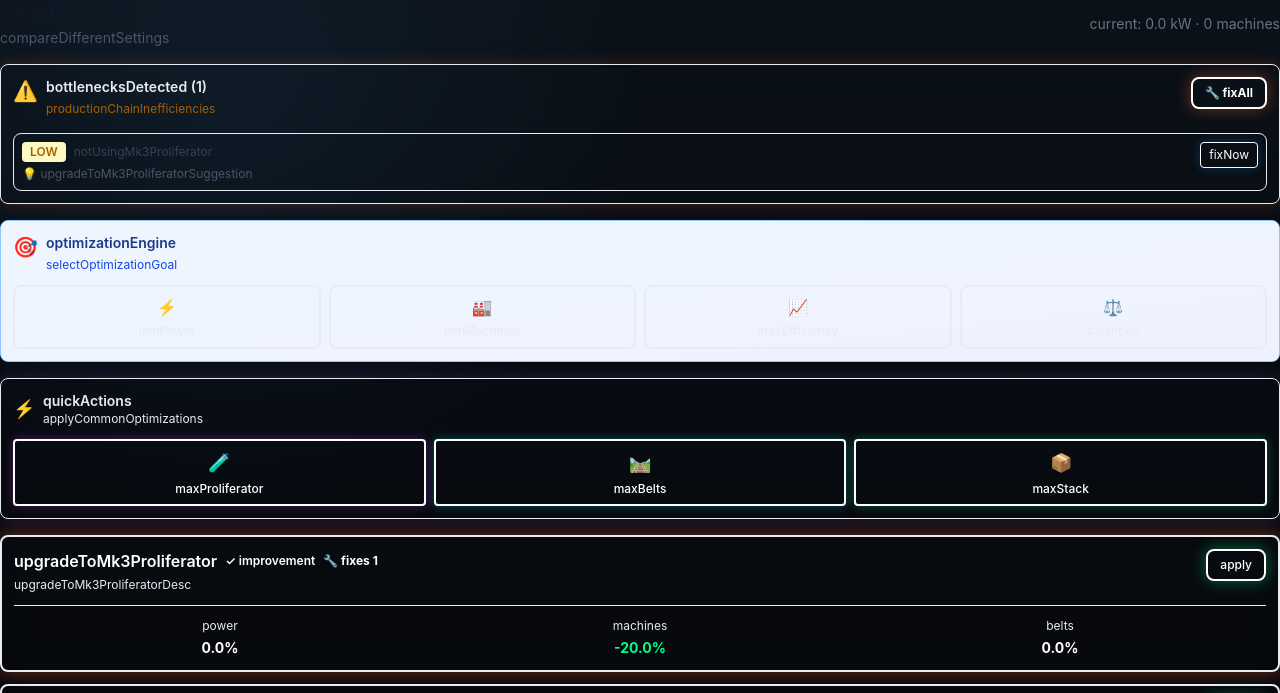
Test: WhatIfSimulator › 効率最適化が動作する
This screenshot has width=1280, height=693.
Click the button "📈 maxEfficiency": (798, 317) [644,285,952,349]
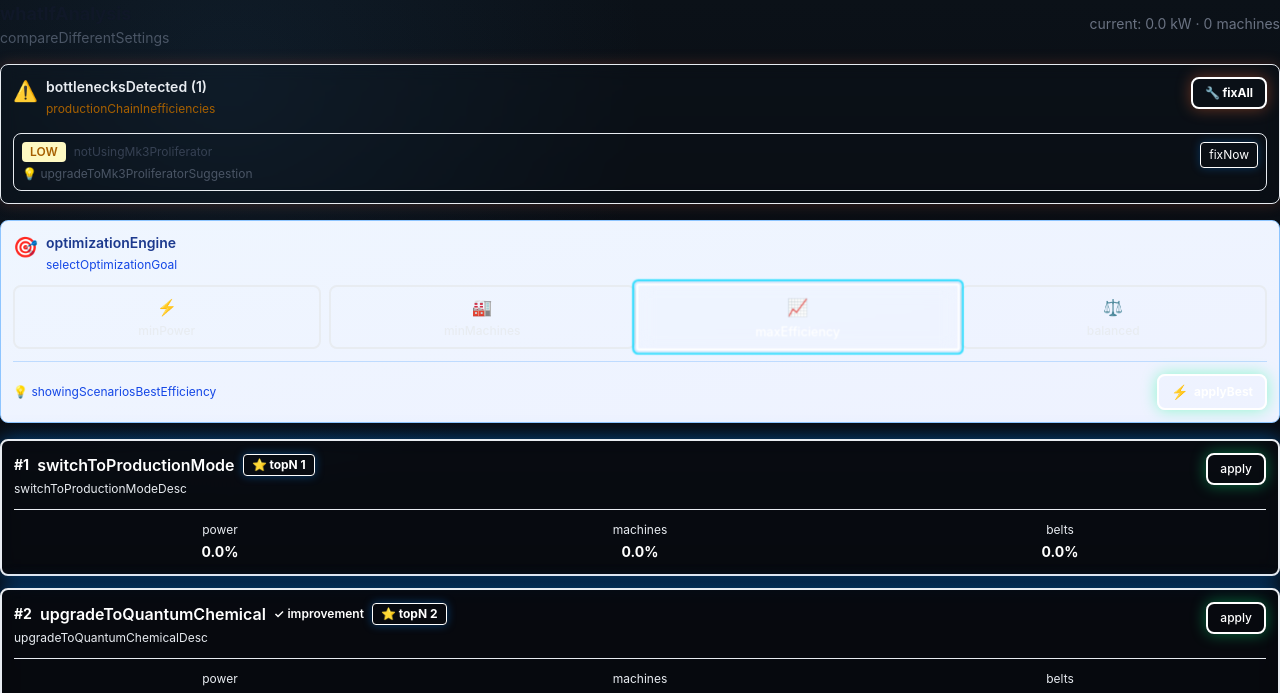
Check: the text "💡 showingScenariosBestEfficiency" is shown, box [13,384,216,399]
